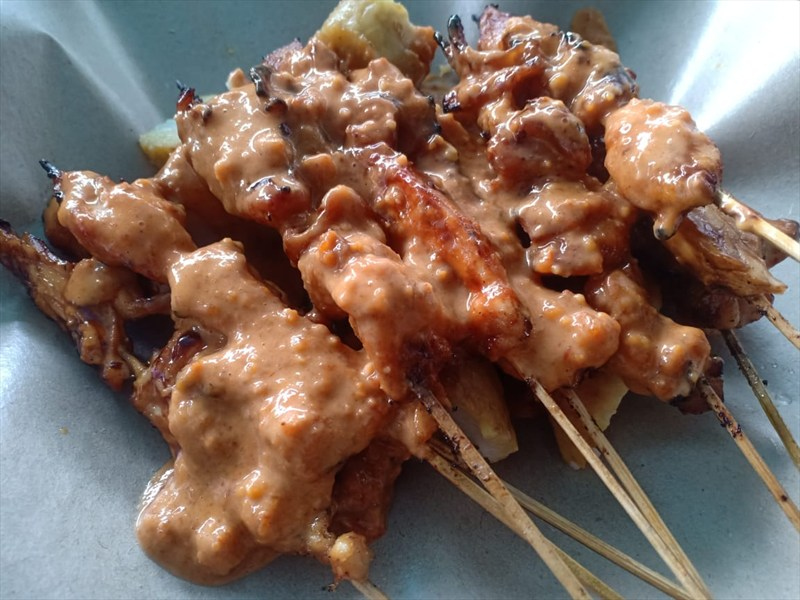Sate Ayam: (142, 54, 693, 476)
